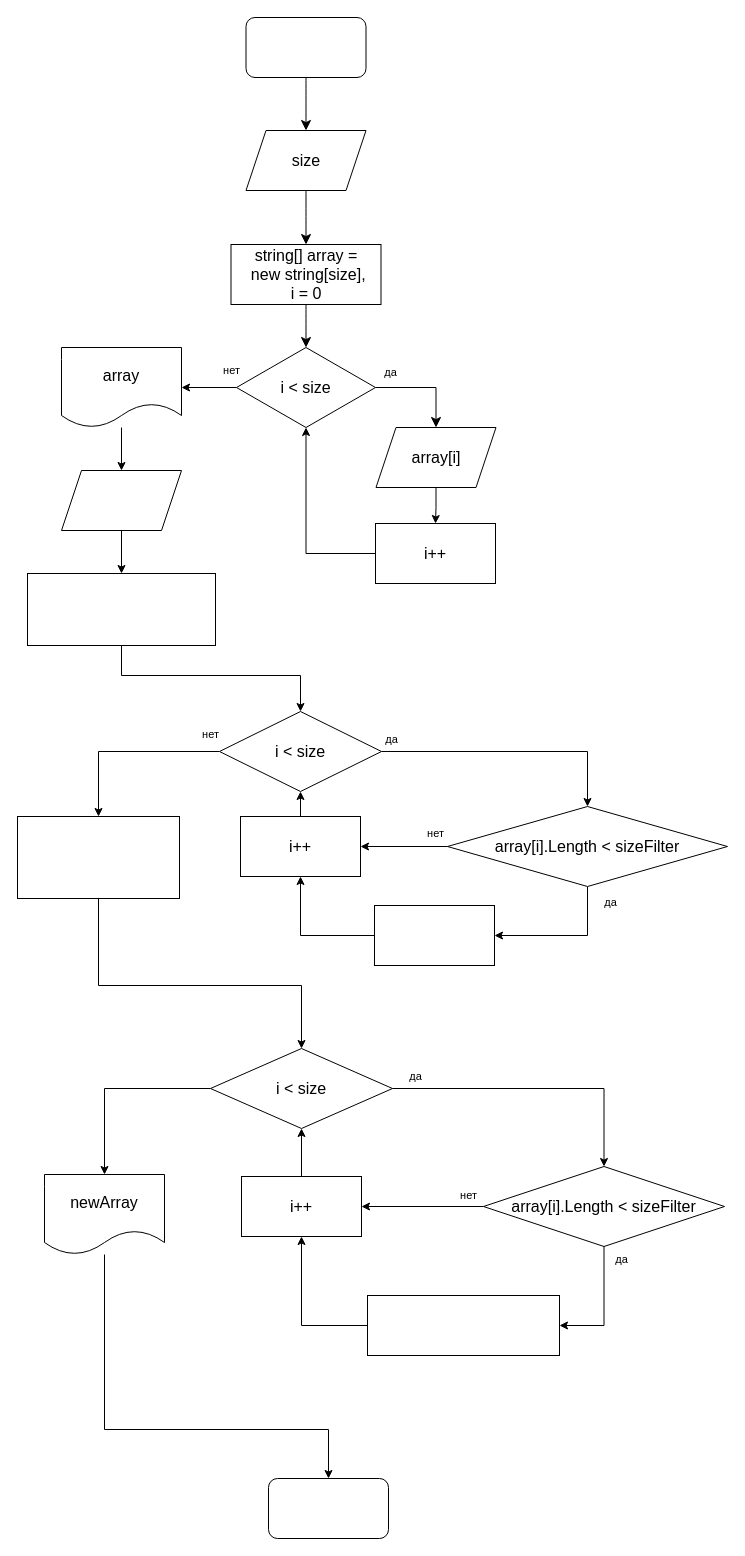
Image size: 745x1556. Some labels were removed from this diagram. The shapes that lost their labels are listed below. From the top down, each one's box as (x1, y1, x2, y2) in pixels, then its label:
(245, 16, 366, 78): Начало
(60, 470, 182, 530): sizeFilter
(26, 572, 216, 646): sizeFilter = sizeFilter + 1, newSize = 0, i = 0
(16, 816, 180, 898): string[] newArray = new string[newSize], index = 0, i = 0
(374, 904, 494, 966): newSize++
(366, 1294, 560, 1356): newArray[index] = array[i], index++
(268, 1478, 388, 1538): Конец
